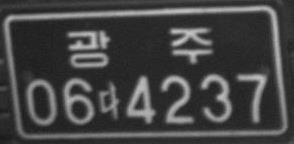0: (24, 77, 59, 128)
2: (159, 73, 196, 126)
3: (199, 71, 234, 125)
4: (124, 73, 156, 125)
6: (61, 76, 96, 126)
7: (235, 71, 269, 125)
광주_D: (64, 23, 215, 69)
다: (97, 79, 123, 122)
